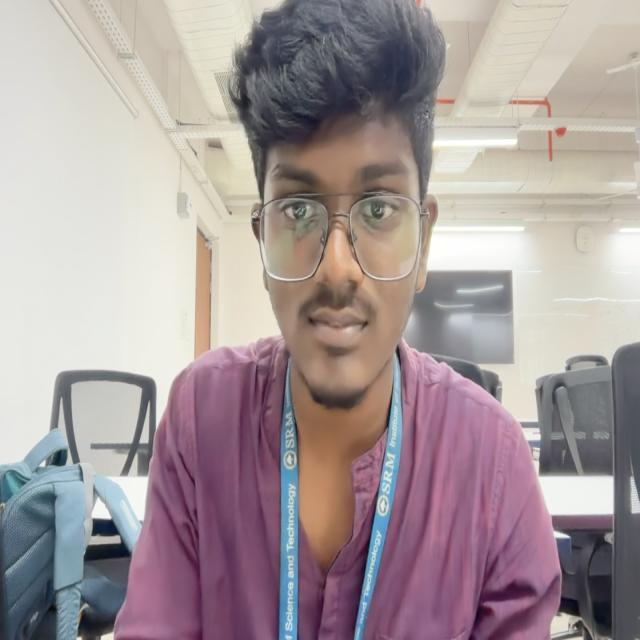ravindra: (227, 0, 438, 409)
